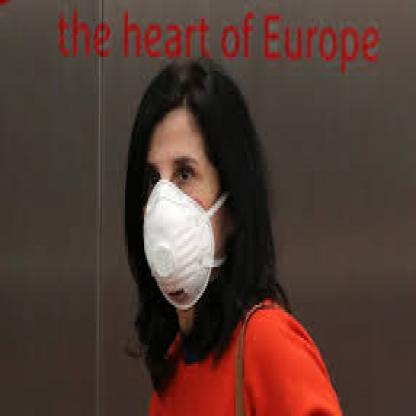Wearing_Mask: (140, 118, 223, 312)
